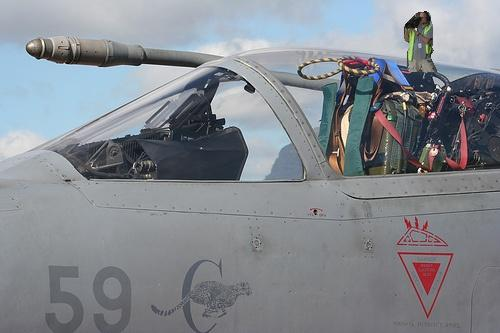tampered: (405, 12, 437, 73)
